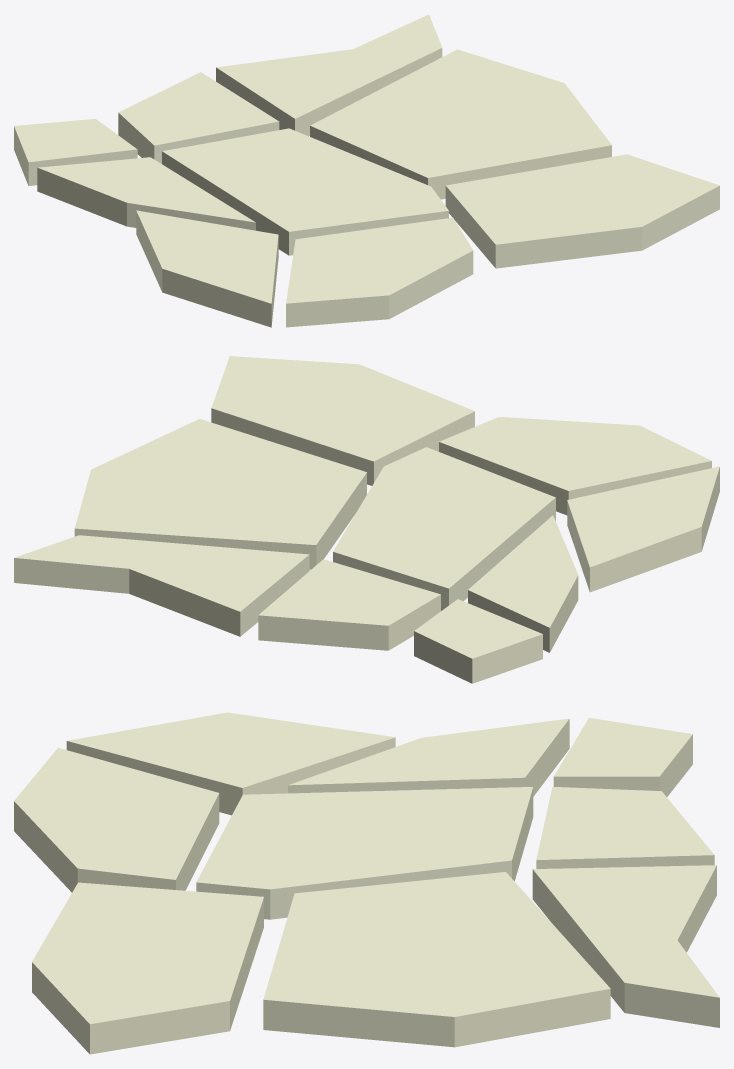
File: kostka-ulica-2-scieta.fbx
The picture shows the model from 3 angles, top to bottom: view 1: azimuth 30°, elevation 25°; view 2: azimuth 150°, elevation 25°; view 3: azimuth 270°, elevation 25°; orthographic projection. The views are drawn at different scales.
Visible parts, largest first — view 1: Layer0_001; view 2: Layer0_001; view 3: Layer0_001.
Part boxes in pixels (<box>): Layer0_001: <box>14,14,719,327</box>; Layer0_001: <box>14,356,719,683</box>; Layer0_001: <box>14,712,719,1054</box>.
Size of the model in its own units: 33.14 by 1.5 by 31.71.
